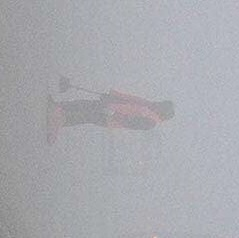person: (46, 90, 177, 132)
